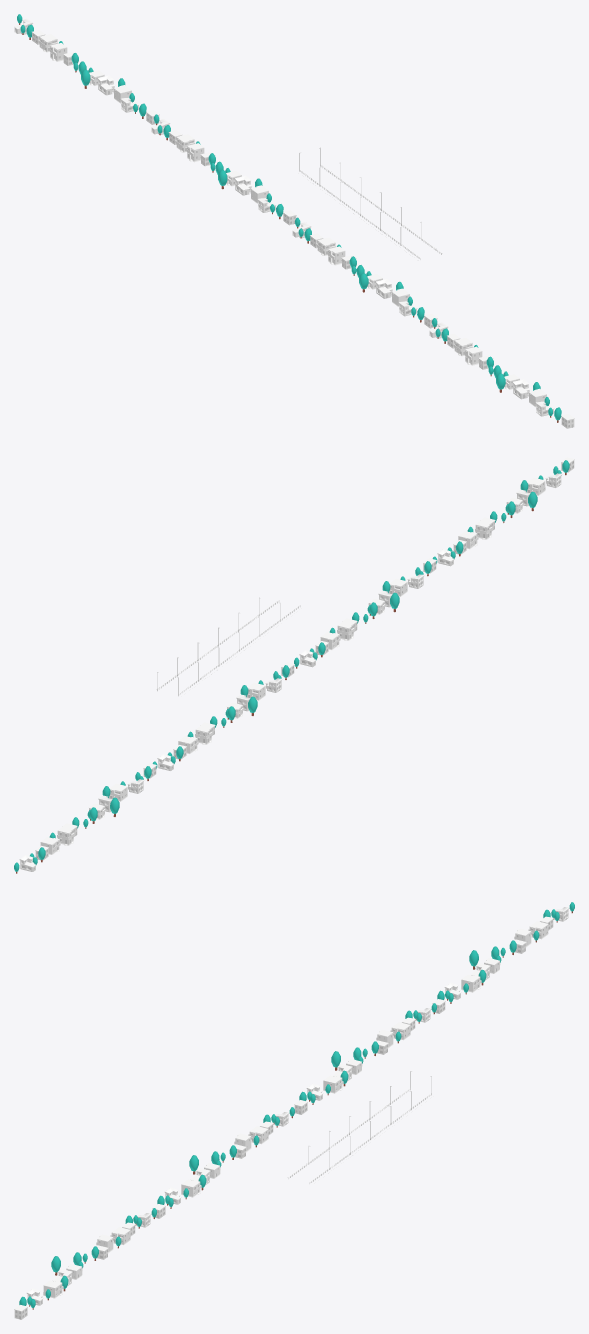
Rendered from background-animated-1.02.glb.
3 views of the same model, one above another, from view 1: azimuth 30°, elevation 25°; view 2: azimuth 150°, elevation 25°; view 3: azimuth 330°, elevation 25° (orthographic).
Parts seen in each view (by area): view 1: Houses.002, Houses.001, Rail; view 2: Houses.002, Houses.001, Rail; view 3: Houses.002, Houses.001, Rail.
Part boxes in pixels (x1,y1,x2,y2): Houses.002: (292,217,574,428); Houses.001: (14,14,296,225); Rail: (298,165,443,260); Houses.002: (294,457,574,668); Houses.001: (14,662,294,873); Rail: (156,600,302,696); Houses.002: (14,1107,294,1319); Houses.001: (294,902,574,1114); Rail: (286,1088,433,1184).
Size of the model in its own units: 66.41 by 11.82 by 623.
1 material, 1 textured.
